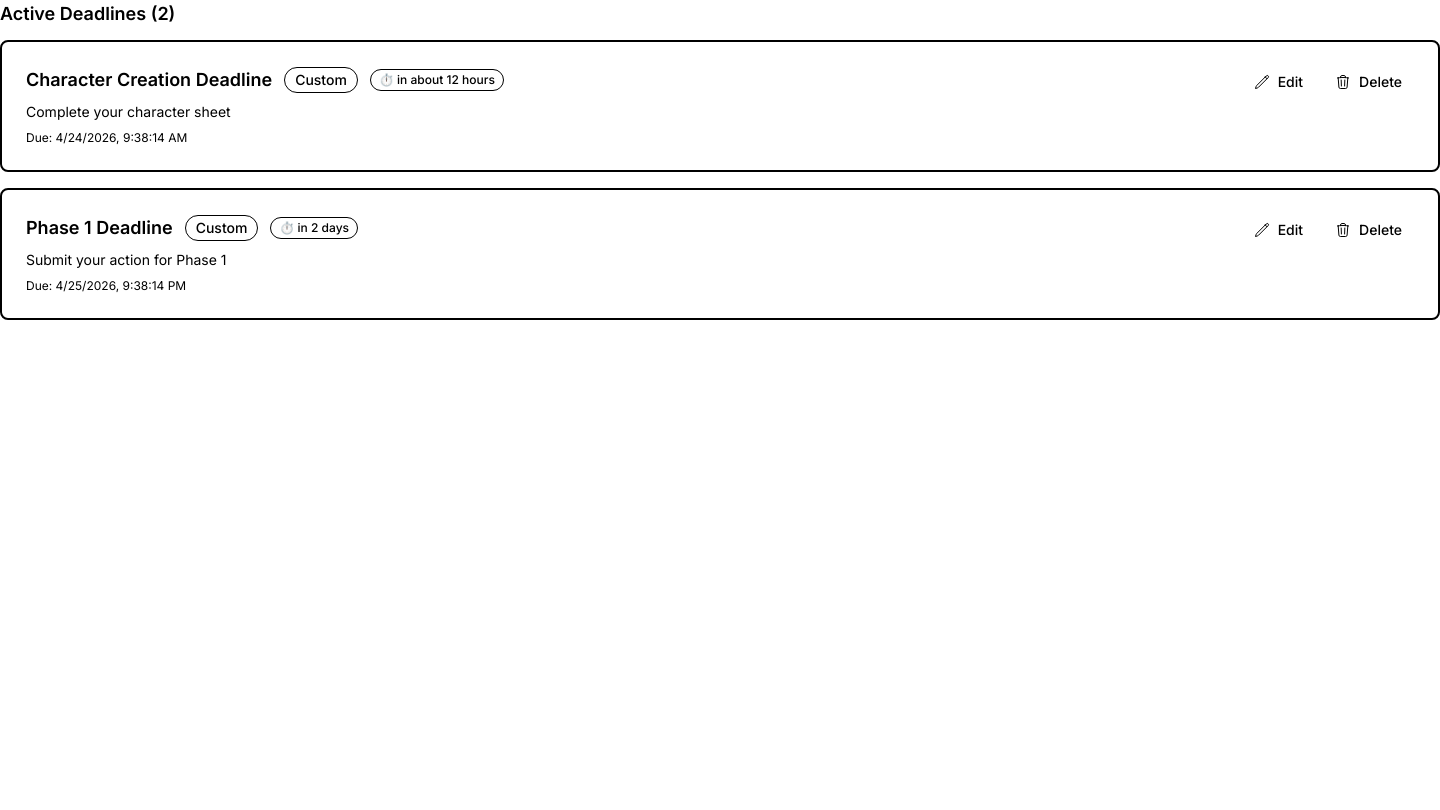
Scenario: DeadlineList › Delete functionality › should show confirmation dialog when delete is clicked
Click the button with aria-label "delete deadline".
click(1369, 82)  # box [1323,66,1414,98]
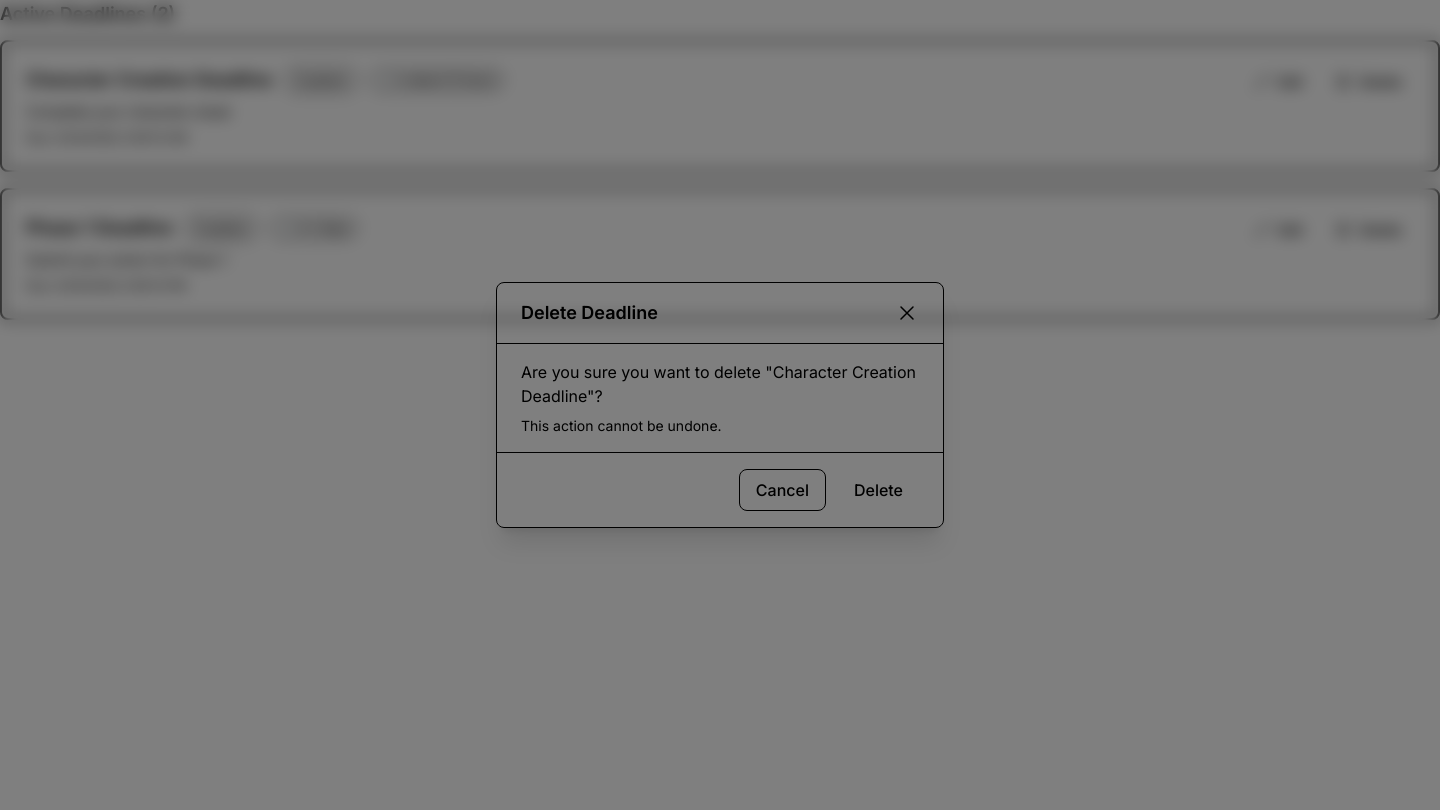
Check: the text "Are you sure you want to delete \"Character Creation Deadline\"" is shown, box [521,360,919,408]
